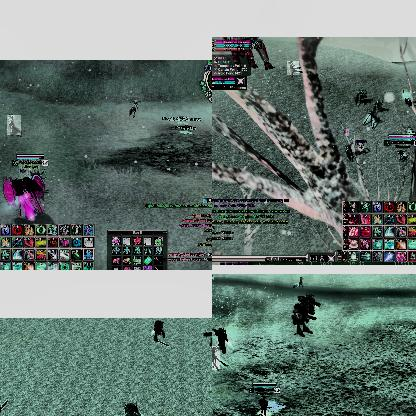caliana: (7, 115, 21, 135), (353, 89, 367, 105), (362, 112, 376, 128), (129, 98, 139, 118), (212, 346, 220, 370), (287, 61, 299, 75), (372, 100, 384, 112), (292, 276, 304, 288), (402, 90, 410, 107), (212, 273, 214, 281)
